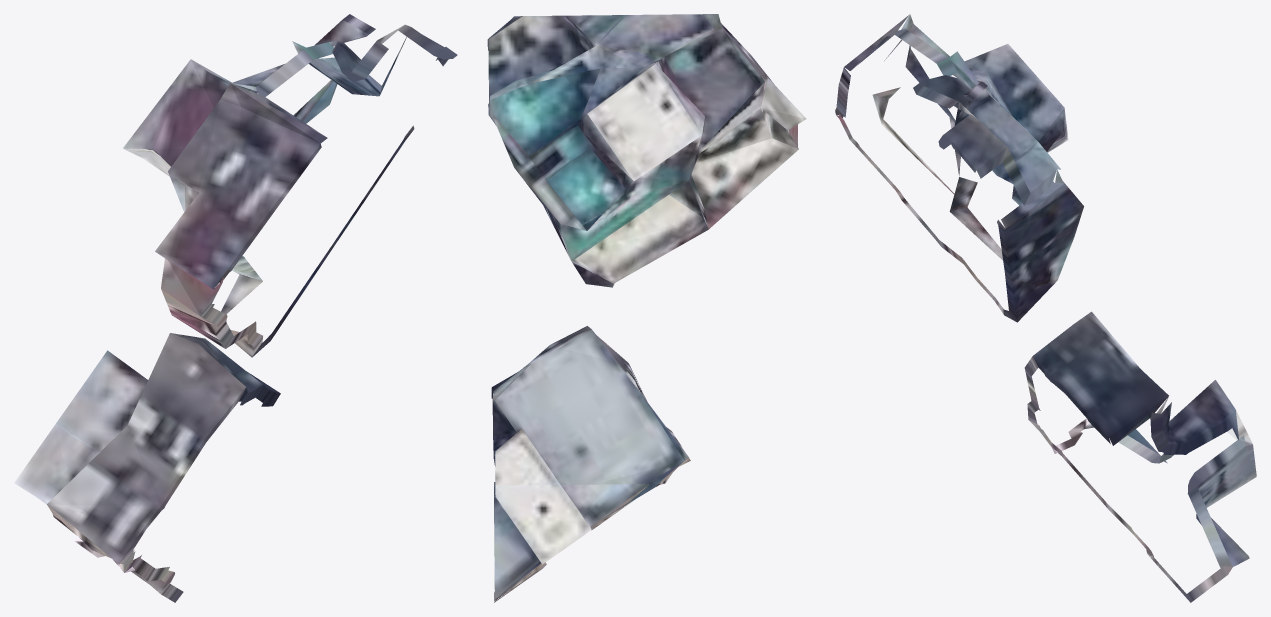
3 renders of one model, left to right at view 1: azimuth 30°, elevation 25°; view 2: azimuth 150°, elevation 25°; view 3: azimuth 270°, elevation 25°, orthographic. The views are drawn at different scales.
Bounding box in the file's own units: 25.47 × 45.98 × 32.43.
1 material, 1 textured.
